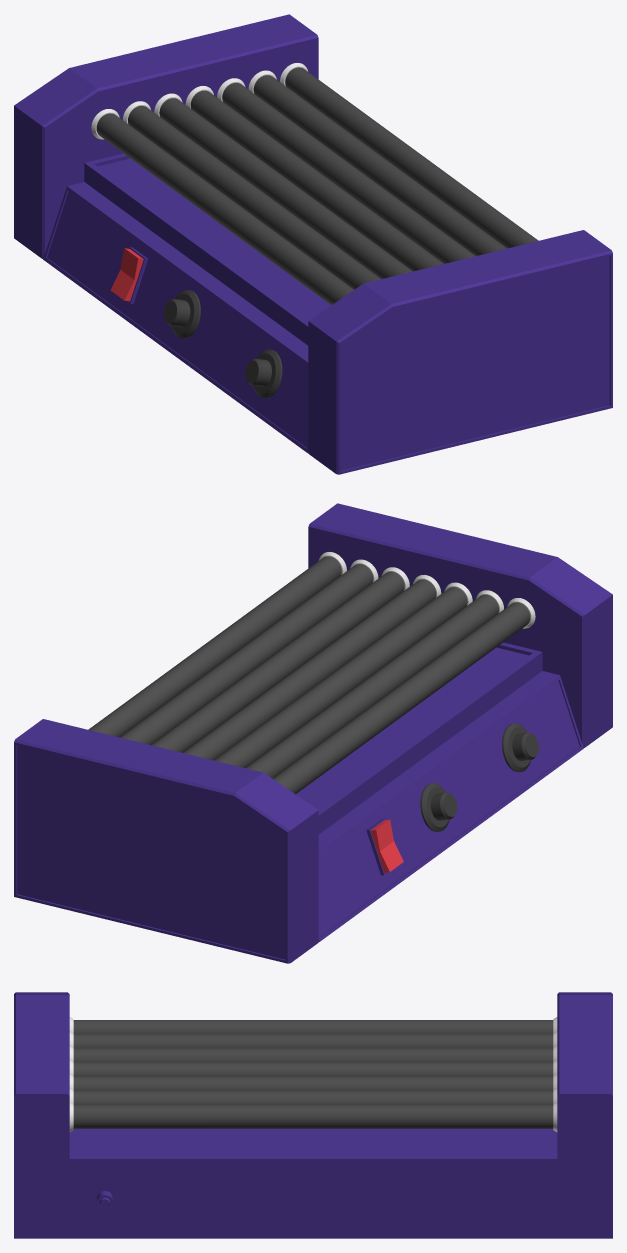
The model's file is Hot Dog Roller.fbx.
3 views of the same model, one above another, from view 1: azimuth 30°, elevation 25°; view 2: azimuth 150°, elevation 25°; view 3: azimuth 270°, elevation 25° (orthographic). The views are drawn at different scales.
Parts seen in each view (by area): view 1: Base, Roller7, Roller3, Roller1, Roller5, Roller6, Roller2, Roller4, Roller Holders, Dial2, Dial1, Switch; view 2: Base, Roller7, Roller3, Roller1, Roller5, Roller6, Roller2, Roller4, Roller Holders, Dial1, Dial2, Switch; view 3: Base, Roller1, Roller4, Roller6, Roller5, Roller3, Roller2, Roller7, Roller Holders.
Part boxes in pixels (x1=…): Base: x1=14, y1=14, x2=612, y2=474; Roller7: x1=96, y1=113, x2=353, y2=305; Roller3: x1=222, y1=82, x2=475, y2=263; Roller1: x1=285, y1=67, x2=538, y2=248; Roller5: x1=159, y1=98, x2=412, y2=278; Roller6: x1=128, y1=105, x2=381, y2=289; Roller2: x1=253, y1=75, x2=506, y2=255; Roller4: x1=190, y1=90, x2=443, y2=271; Roller Holders: x1=91, y1=63, x2=308, y2=139; Dial2: x1=245, y1=349, x2=282, y2=398; Dial1: x1=163, y1=290, x2=200, y2=338; Switch: x1=110, y1=248, x2=143, y2=301; Base: x1=14, y1=503, x2=612, y2=963; Roller7: x1=273, y1=602, x2=530, y2=794; Roller3: x1=151, y1=571, x2=404, y2=752; Roller1: x1=88, y1=556, x2=341, y2=737; Roller5: x1=214, y1=587, x2=467, y2=767; Roller6: x1=245, y1=594, x2=498, y2=778; Roller2: x1=120, y1=564, x2=373, y2=744; Roller4: x1=183, y1=579, x2=436, y2=760; Roller Holders: x1=318, y1=552, x2=535, y2=628; Dial1: x1=420, y1=783, x2=457, y2=831; Dial2: x1=502, y1=723, x2=538, y2=772; Switch: x1=370, y1=819, x2=403, y2=872; Base: x1=14, y1=992, x2=612, y2=1238; Roller1: x1=73, y1=1105, x2=553, y2=1128; Roller4: x1=73, y1=1062, x2=553, y2=1076; Roller6: x1=73, y1=1034, x2=553, y2=1048; Roller5: x1=73, y1=1048, x2=553, y2=1062; Roller3: x1=73, y1=1076, x2=553, y2=1090; Roller2: x1=73, y1=1090, x2=553, y2=1104; Roller7: x1=73, y1=1020, x2=553, y2=1033; Roller Holders: x1=69, y1=1017, x2=557, y2=1131.
Size of the model in its own units: 255 by 131 by 490.
